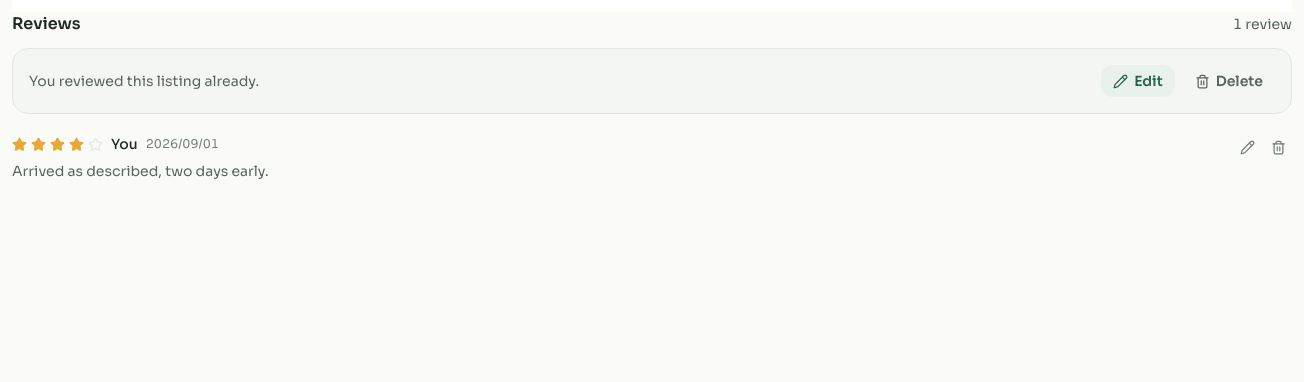
Test: ReviewsSection › leaves the edit without saving anything
Click the button named "Edit your review".
click(1248, 148)  # box [1234, 134, 1261, 161]
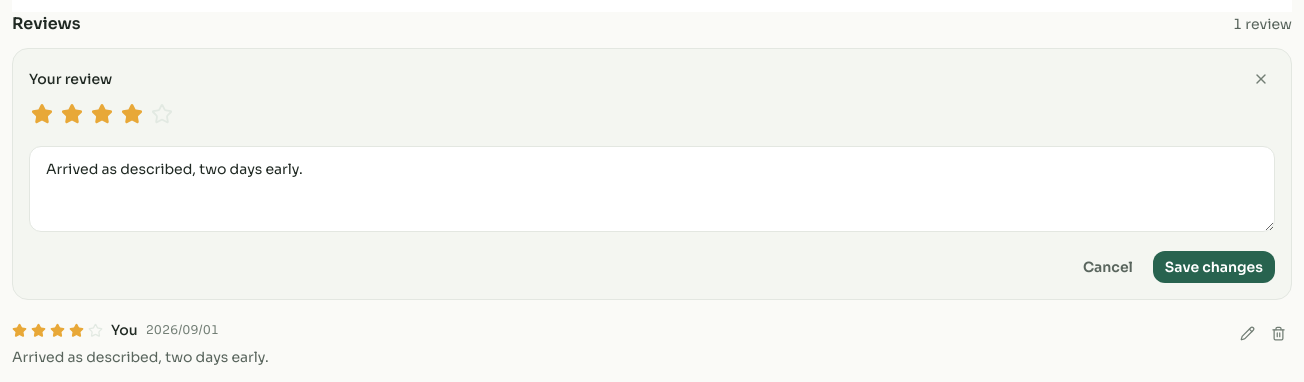
Click the button "Cancel".
click(1108, 267)  # box [1071, 251, 1145, 283]
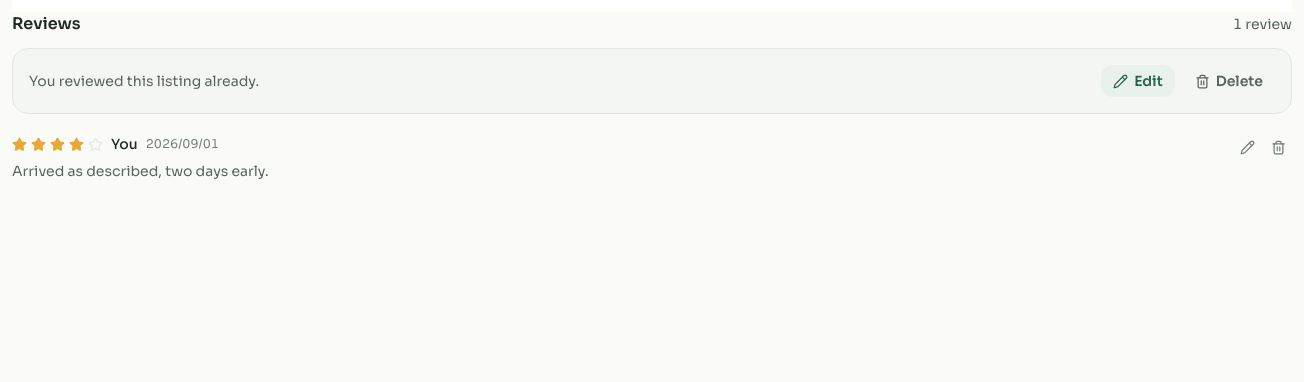
Expected: the text "You reviewed this listing already." is shown, [29, 71, 259, 91]
